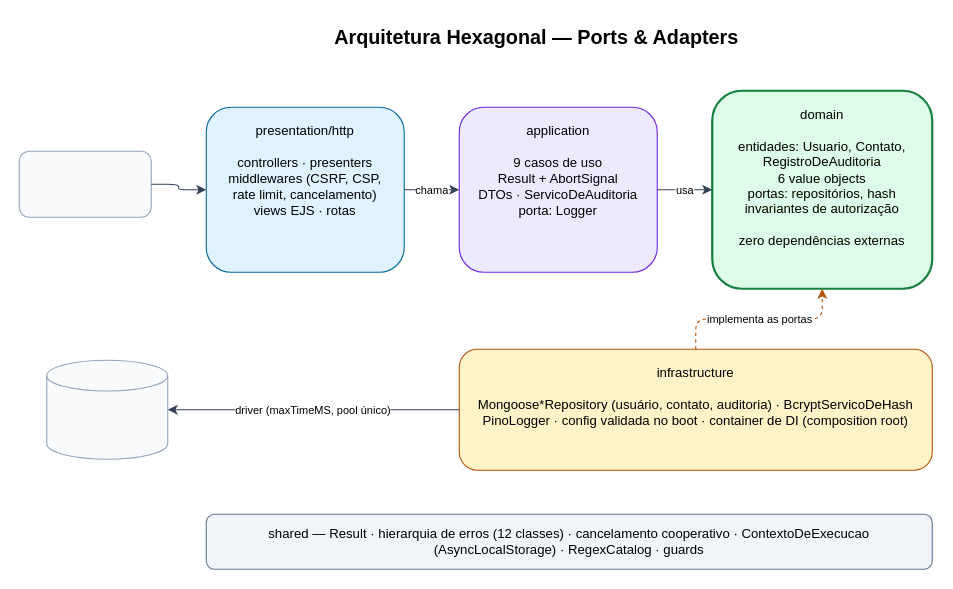
This 953x589 diagram has some shape labels left out. The centre of each missing label's shape, as x and y in pixels:
MongoDB: the point at 107,409
Navegador (HTTPS): the point at 84,183
